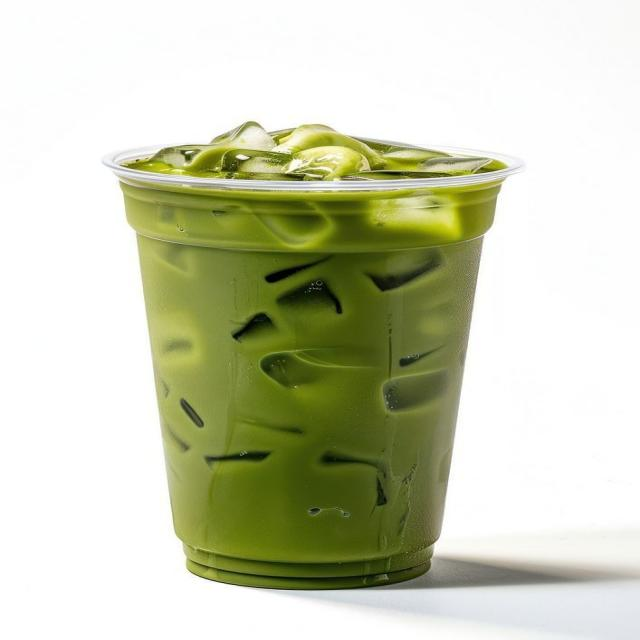plastic cup: (104, 119, 528, 590)
